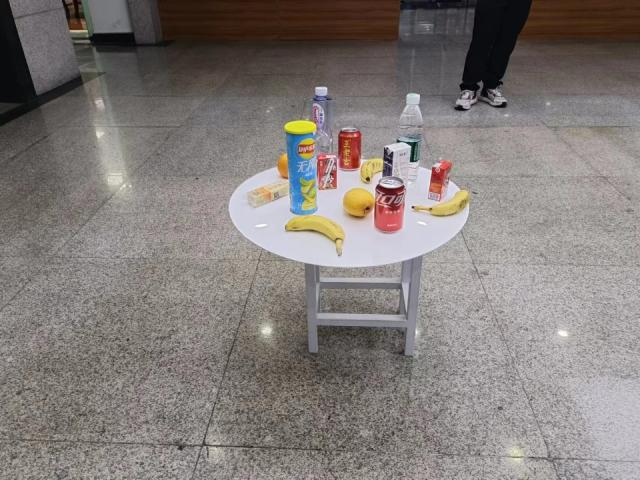Canned_drinks: (374, 176, 406, 234), (337, 126, 362, 171)
bottle: (395, 92, 425, 187), (308, 85, 336, 163)
cylinder: (284, 120, 320, 215)
drink_box: (381, 142, 411, 191), (427, 158, 453, 200), (317, 154, 338, 190)
